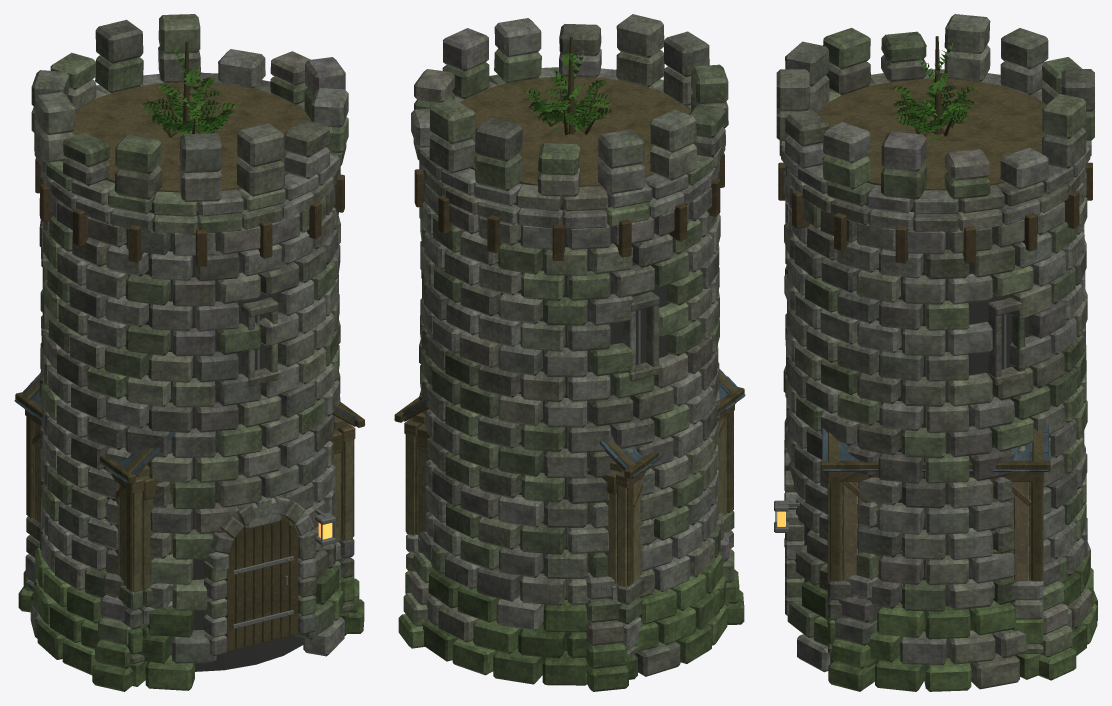
Rendered from kit.glb.
3 renders of one model, left to right at view 1: azimuth 30°, elevation 25°; view 2: azimuth 150°, elevation 25°; view 3: azimuth 270°, elevation 25°, orthographic.
Parts seen in each view (by area): view 1: watch_tower__watch_stone, watch_tower__aged_timber, barracks_wall_west__aged_timber, watch_tower__recess_shadow, pine_b__needle_foliage, barracks_wall_front__aged_timber, barracks_roof__aged_timber, barracks_wall_east__aged_timber, barracks_base__watch_stone, barracks_wall_west__watch_stone, watch_tower__forged_iron, barracks_roof__dark_slate (+2 smaller); view 2: watch_tower__watch_stone, watch_tower__aged_timber, barracks_wall_west__aged_timber, pine_b__needle_foliage, watch_tower__recess_shadow, barracks_wall_back__aged_timber, barracks_roof__aged_timber, barracks_wall_east__aged_timber, barracks_wall_west__watch_stone, barracks_roof__dark_slate, pine_b__pine_bark, barracks_base__watch_stone; view 3: watch_tower__watch_stone, watch_tower__aged_timber, barracks_wall_east__aged_timber, watch_tower__recess_shadow, pine_b__needle_foliage, barracks_wall_east__watch_stone, barracks_roof__aged_timber, barracks_roof__dark_slate, barracks_base__watch_stone, pine_b__pine_bark, watch_tower__forged_iron.
Part boxes in pixels (x1,y1,x2,y2): watch_tower__watch_stone: [18, 14, 364, 691]; watch_tower__aged_timber: [35, 82, 344, 651]; barracks_wall_west__aged_timber: [25, 410, 143, 592]; watch_tower__recess_shadow: [106, 182, 303, 671]; pine_b__needle_foliage: [141, 45, 238, 135]; barracks_wall_front__aged_timber: [141, 429, 342, 588]; barracks_roof__aged_timber: [15, 377, 364, 483]; barracks_wall_east__aged_timber: [337, 422, 355, 540]; barracks_base__watch_stone: [25, 554, 354, 663]; barracks_wall_west__watch_stone: [26, 516, 143, 629]; watch_tower__forged_iron: [233, 315, 335, 628]; barracks_roof__dark_slate: [14, 373, 365, 482]; watch_tower__watch_stone: [398, 14, 744, 691]; watch_tower__aged_timber: [414, 76, 724, 261]; barracks_wall_west__aged_timber: [616, 405, 734, 587]; pine_b__needle_foliage: [445, 50, 613, 505]; watch_tower__recess_shadow: [497, 176, 669, 650]; barracks_wall_back__aged_timber: [417, 424, 618, 583]; barracks_roof__aged_timber: [394, 371, 744, 478]; barracks_wall_east__aged_timber: [404, 417, 422, 535]; barracks_wall_west__watch_stone: [617, 510, 734, 624]; barracks_roof__dark_slate: [394, 369, 745, 478]; pine_b__pine_bark: [533, 36, 601, 134]; barracks_base__watch_stone: [405, 549, 734, 658]; watch_tower__watch_stone: [776, 14, 1097, 691]; watch_tower__aged_timber: [778, 78, 1092, 263]; barracks_wall_east__aged_timber: [827, 471, 1043, 581]; watch_tower__recess_shadow: [804, 184, 1031, 657]; pine_b__needle_foliage: [891, 43, 977, 139]; barracks_wall_east__watch_stone: [828, 578, 1043, 619]; barracks_roof__aged_timber: [820, 428, 1050, 471]; barracks_roof__dark_slate: [822, 409, 1048, 471]; barracks_base__watch_stone: [827, 614, 1043, 653]; pine_b__pine_bark: [902, 36, 965, 136]; watch_tower__forged_iron: [774, 314, 1006, 547].
Bounding box in the file's own units: 5.28 × 10.61 × 5.29.
9 materials, 6 textured.
